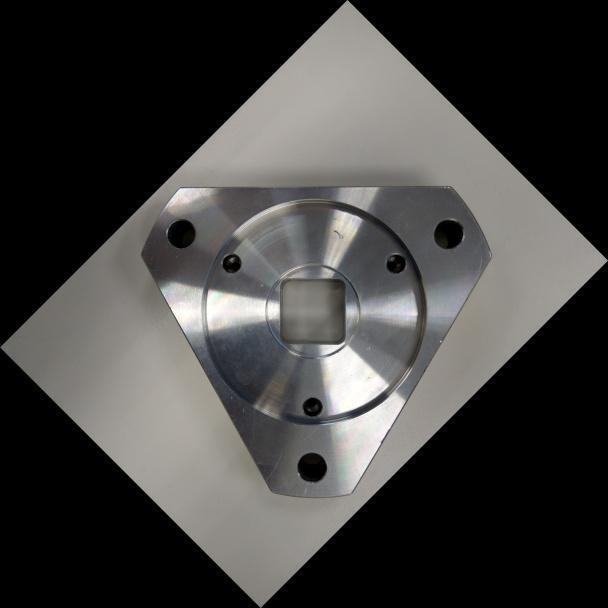hole: (425, 209, 474, 258), (288, 444, 335, 491), (158, 211, 204, 257), (378, 244, 413, 280), (214, 247, 247, 279), (296, 391, 328, 423)
